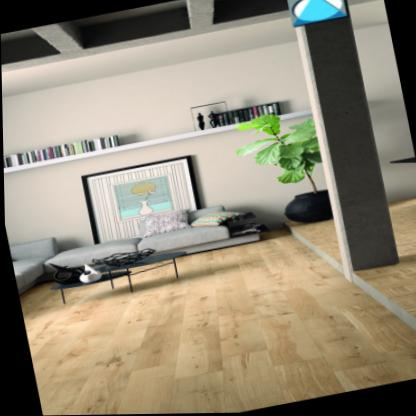Wooden floor: (18, 201, 416, 416)
